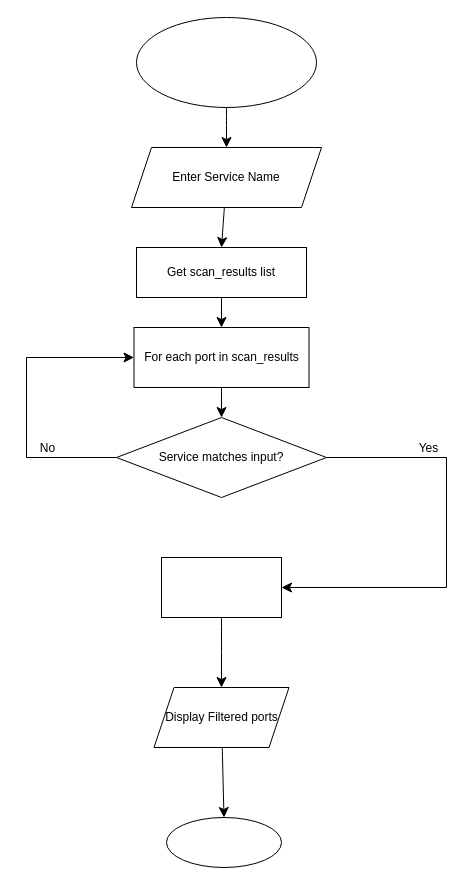
Some shapes in this 474 by 885 pixel diagram are drawn without their labels. Each missing label, with the centre of its shape:
Add port to filtered list: the point at 221,587
End: the point at 224,842
Start: the point at 226,62
